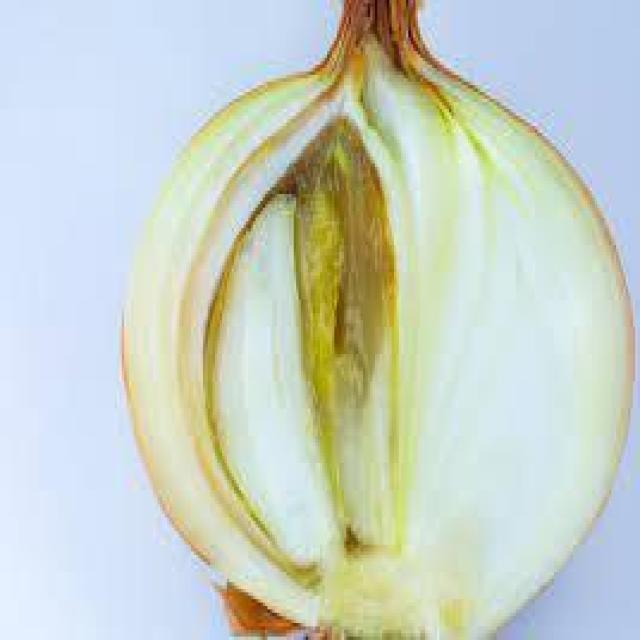Onion: (112, 14, 638, 636)
